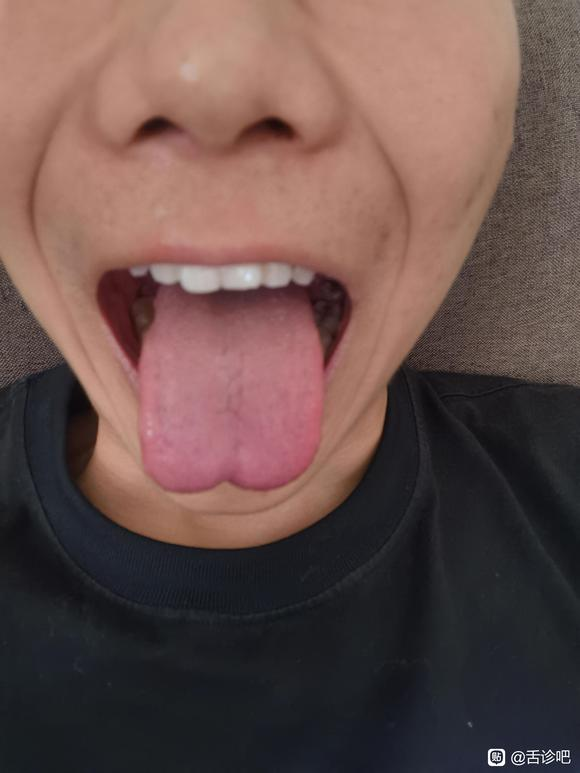hongshe: (139, 278, 323, 493)
liewenshe: (216, 351, 247, 419)
xinfeiao: (180, 461, 269, 493)
